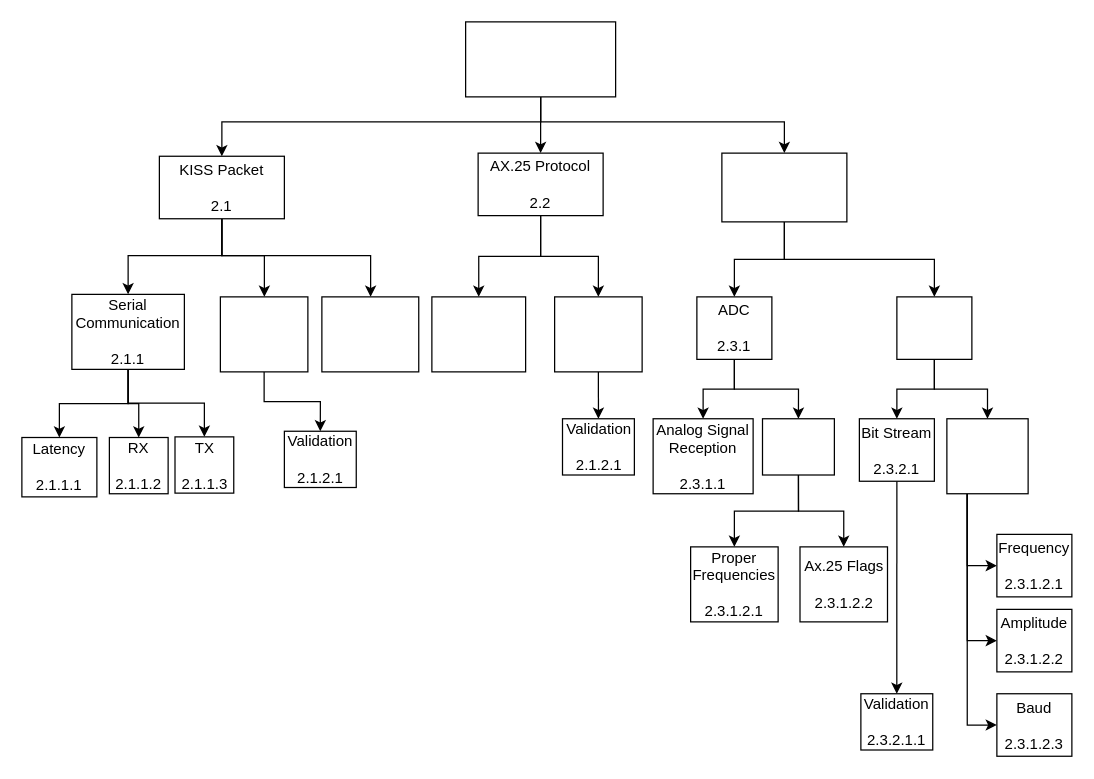
The diagram is 1094 pixels wide and 779 high, and some of its shapes have lost their labels. The shapes that lost their labels are listed below. From the top down, each one's centre as x and y in pixels, then its label:
At (540,59): "Software 2".
At (784,187): "Frequency Shifted Audio Tone 2.3".
At (263,334): "Packet Construction 2.1.2".
At (370,334): "Data Extraction 2.1.3".
At (478,334): "Error Checking 2.2.1".
At (597,334): "Packet Construction 2.2.2".
At (934,327): "DAC 2.3.2".
At (797,446): "Validation 2.3.1.2".
At (987,456): "Signal Production 2.3.1.2".
